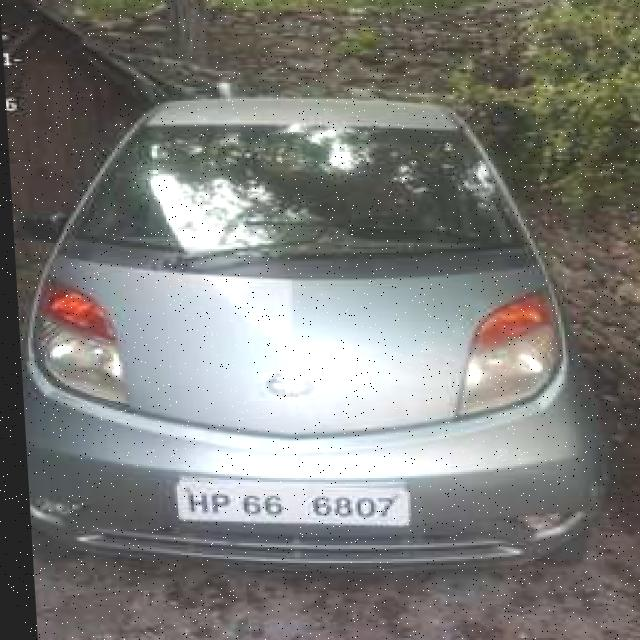plate: (170, 479, 405, 527)
